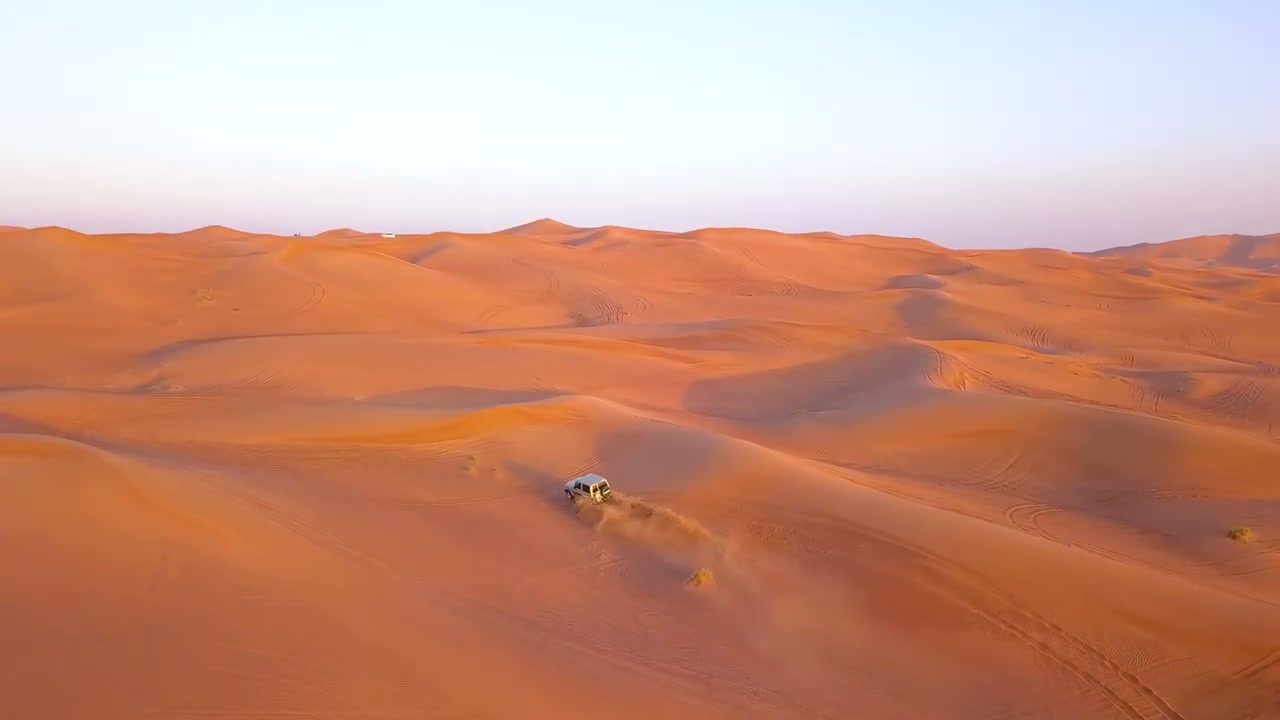vehicle_track: (189, 470, 833, 719), (188, 468, 793, 708), (857, 526, 1185, 719), (472, 604, 834, 719), (495, 614, 833, 719), (960, 579, 1184, 719), (187, 468, 404, 577), (1022, 610, 1184, 719), (192, 438, 497, 469), (1073, 542, 1279, 578), (508, 540, 630, 594), (471, 258, 559, 327), (942, 353, 1029, 396), (717, 261, 803, 297), (1003, 501, 1073, 545), (391, 487, 535, 507), (964, 449, 1032, 491), (134, 709, 405, 719), (1203, 378, 1265, 420), (1007, 323, 1082, 355), (399, 436, 500, 459), (895, 290, 952, 330), (511, 258, 560, 302), (573, 286, 626, 325), (925, 346, 969, 390), (220, 369, 295, 391), (1124, 379, 1169, 415), (1233, 647, 1280, 679), (287, 281, 326, 318), (587, 287, 625, 323), (1180, 326, 1232, 352), (1010, 324, 1053, 349), (757, 276, 806, 297), (1129, 381, 1161, 413), (227, 370, 280, 388), (563, 454, 600, 479), (472, 304, 511, 327), (757, 325, 792, 348), (931, 260, 979, 276), (902, 312, 946, 329), (767, 278, 805, 297), (628, 293, 652, 317), (531, 376, 561, 395), (1207, 329, 1231, 351), (735, 245, 761, 265), (1059, 338, 1083, 355), (1253, 361, 1279, 376), (1119, 349, 1136, 368), (1095, 300, 1109, 310)
